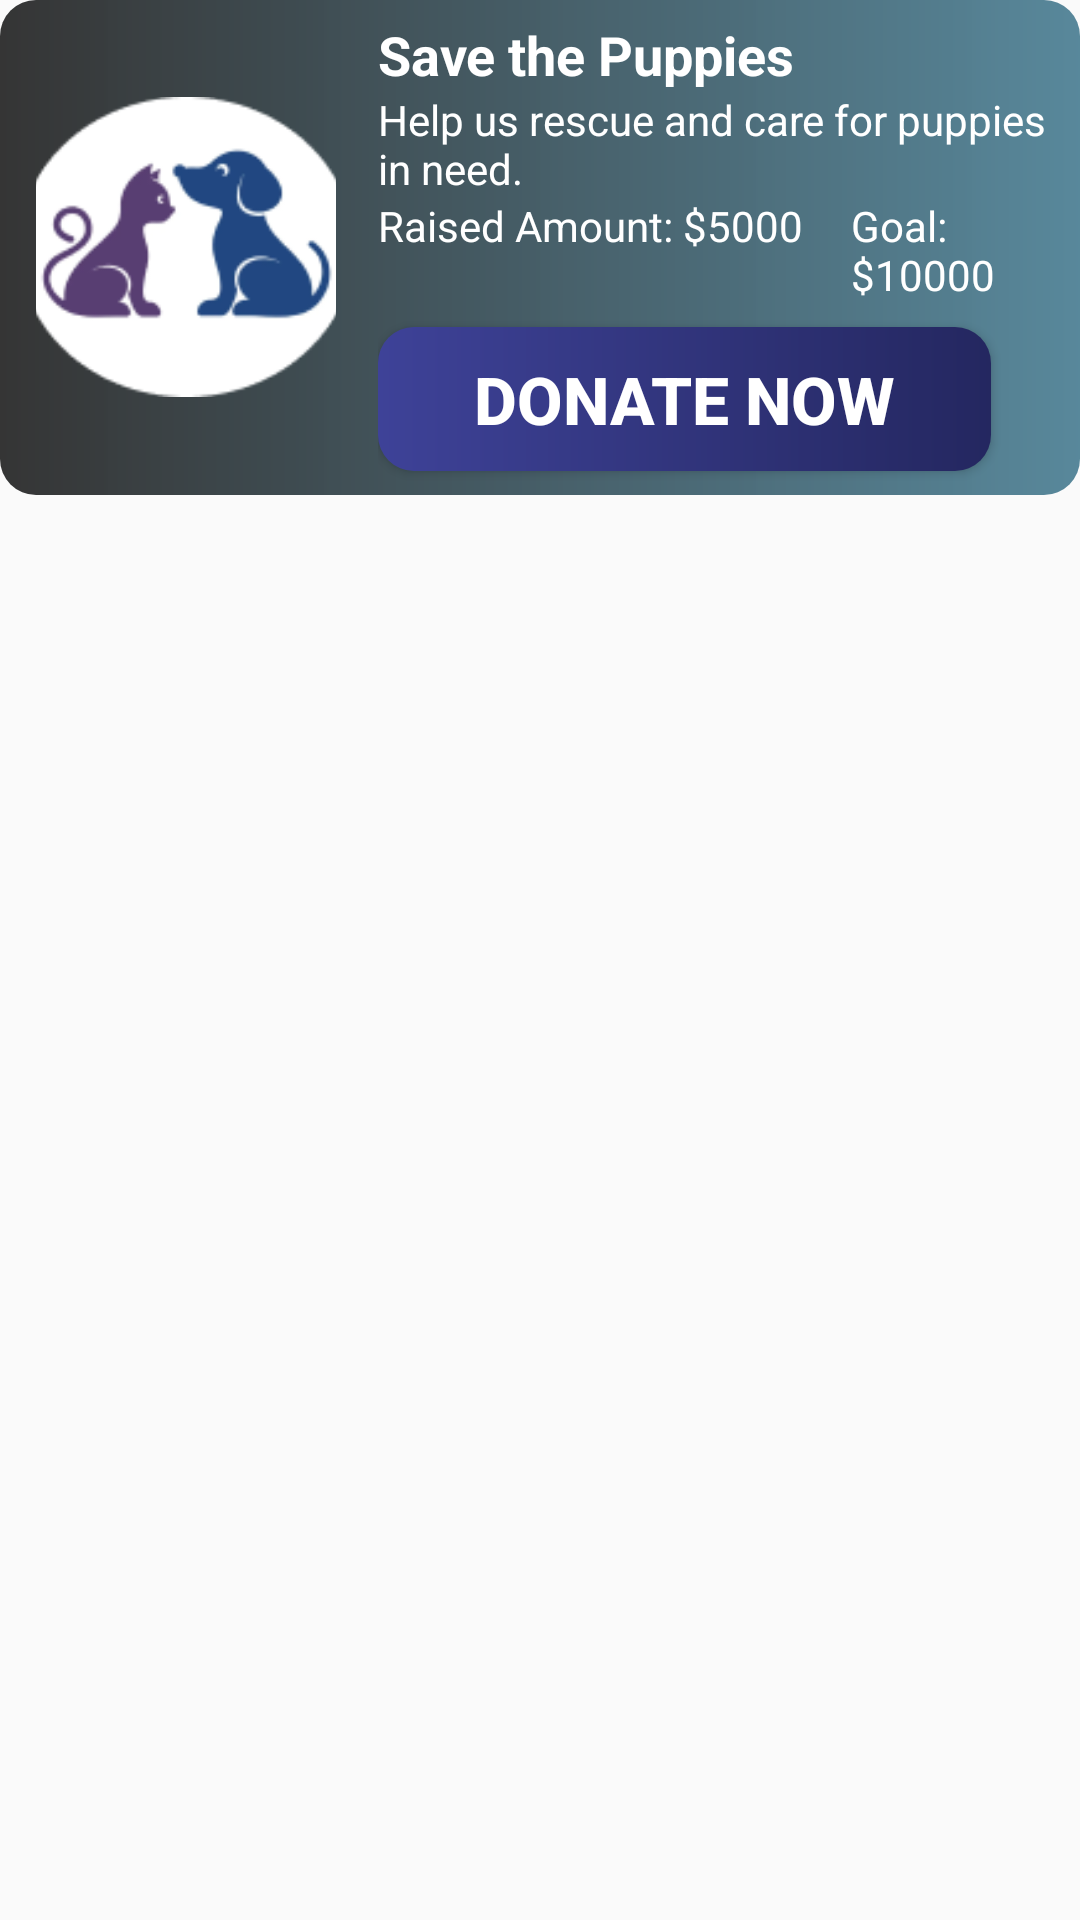

Icons on this 1080px×1920px Android screen, each with its box as [left=x1, top=y1, right=x2, bottom=y2]:
cat dog: [left=36, top=97, right=336, bottom=397]
